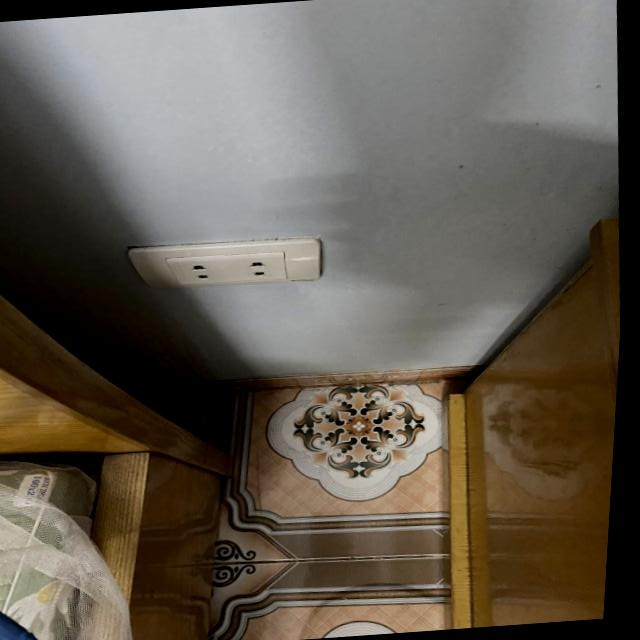outlet: (126, 233, 327, 294)
